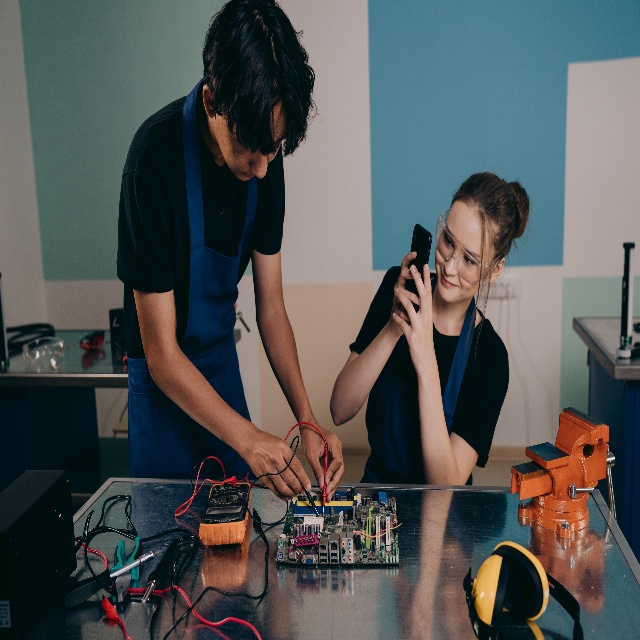Gafas: (436, 209, 498, 287)
Sin_guantes: (251, 427, 311, 500), (393, 262, 434, 357), (298, 420, 344, 503), (391, 251, 422, 338)
